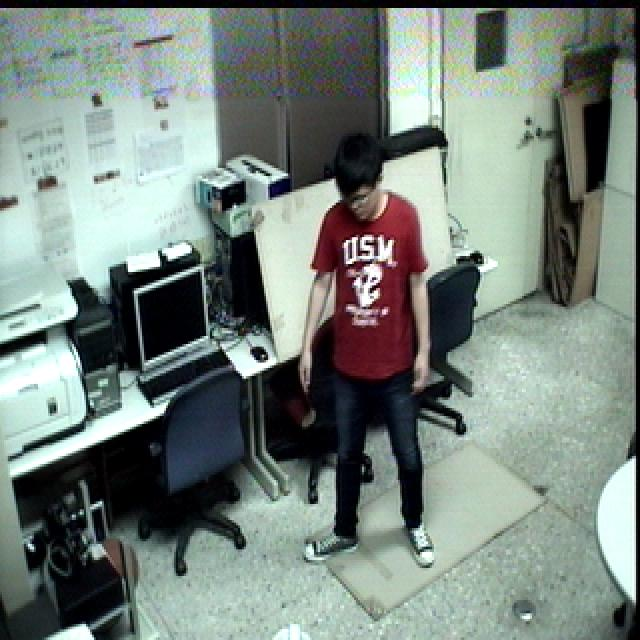stand: (291, 128, 442, 588)
